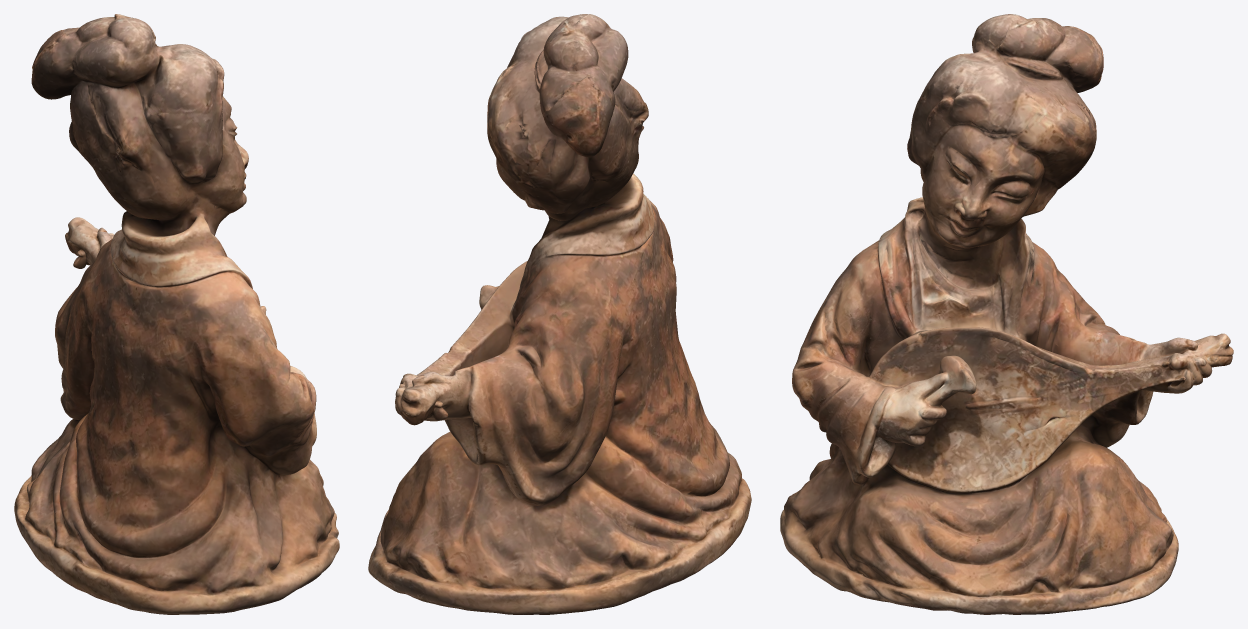
Rendered from pipa-figurine-web-mobile.glb.
The picture shows the model from 3 angles, left to right: view 1: azimuth 30°, elevation 25°; view 2: azimuth 150°, elevation 25°; view 3: azimuth 270°, elevation 25°; orthographic projection. The views are drawn at different scales.
Parts seen in each view (by area): view 1: tripo_node_8b8ca17e-7261-4cbe-82ad-aca870084602; view 2: tripo_node_8b8ca17e-7261-4cbe-82ad-aca870084602; view 3: tripo_node_8b8ca17e-7261-4cbe-82ad-aca870084602.
Part boxes in pixels (<box>): tripo_node_8b8ca17e-7261-4cbe-82ad-aca870084602: <box>14,14,339,614</box>; tripo_node_8b8ca17e-7261-4cbe-82ad-aca870084602: <box>368,14,751,614</box>; tripo_node_8b8ca17e-7261-4cbe-82ad-aca870084602: <box>780,14,1233,614</box>.
Bounding box in the file's own units: 0.5396 × 0.9811 × 0.7782.
1 material, 1 textured.
